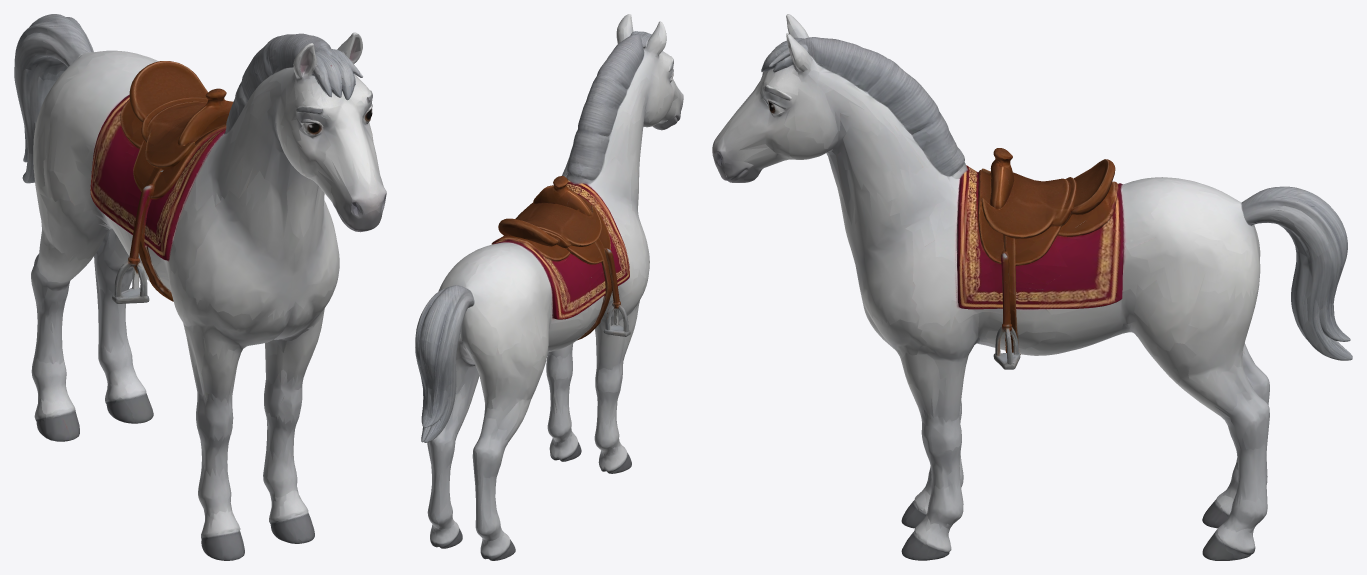
File: horse-2.glb
The picture shows the model from 3 angles, left to right: view 1: azimuth 30°, elevation 25°; view 2: azimuth 150°, elevation 25°; view 3: azimuth 270°, elevation 25°; orthographic projection. The views are drawn at different scales.
Parts seen in each view (by area): view 1: output_unwrapped; view 2: output_unwrapped; view 3: output_unwrapped.
Part boxes in pixels (bbox=[...]): output_unwrapped: bbox=[14, 14, 386, 560]; output_unwrapped: bbox=[415, 14, 683, 560]; output_unwrapped: bbox=[712, 14, 1352, 560].
Bounding box in the file's own units: 0.6526 × 1.77 × 2.
1 material, 1 textured.
